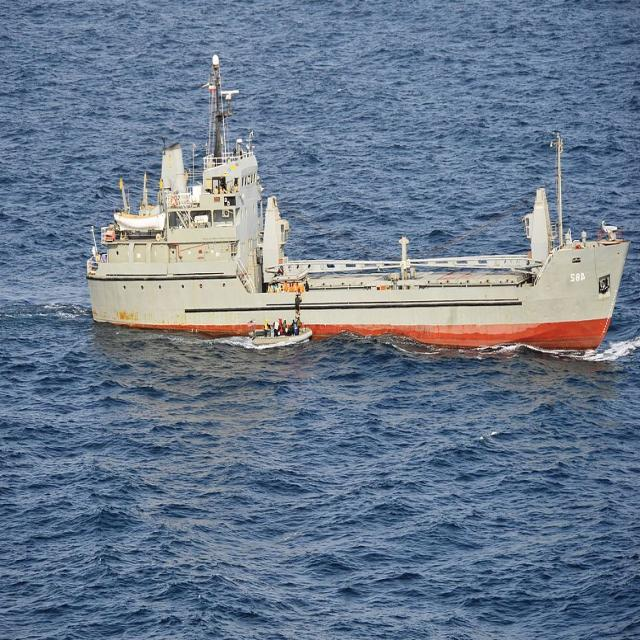navalvessels: (75, 62, 632, 366)
